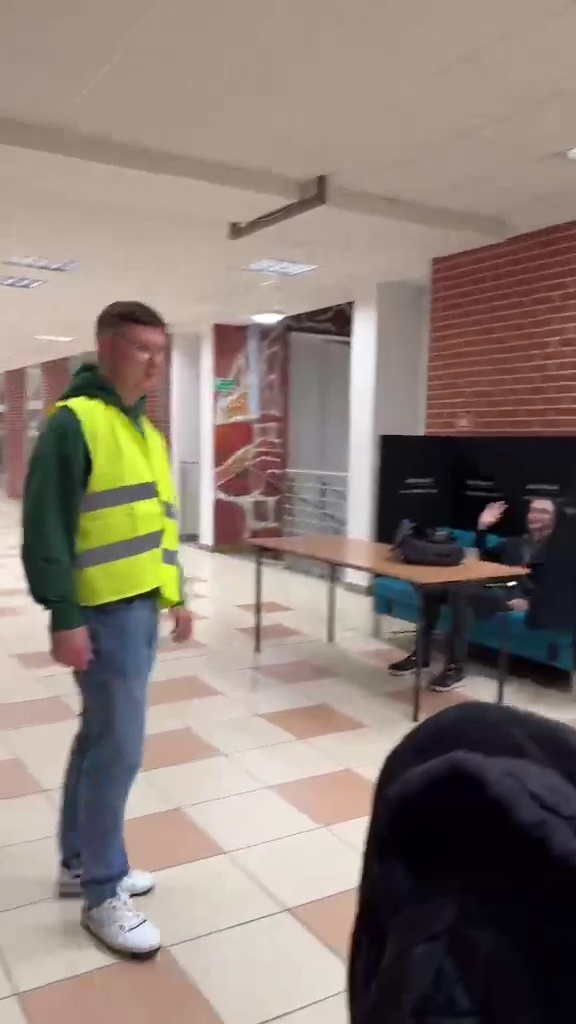no vest: (416, 486, 563, 671)
vest: (24, 297, 187, 960)
